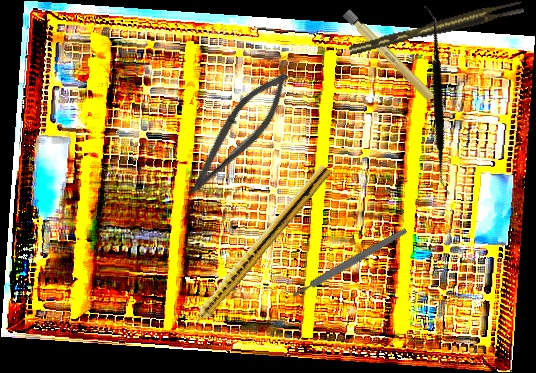Handpiece: (176, 160, 333, 342)
Micro Scissor: (178, 60, 299, 210)
Scalpel Handle: (341, 8, 450, 117), (290, 226, 409, 300)
Spatula Surgical: (348, 5, 525, 196)
Tissue Forceps: (346, 0, 526, 55)
